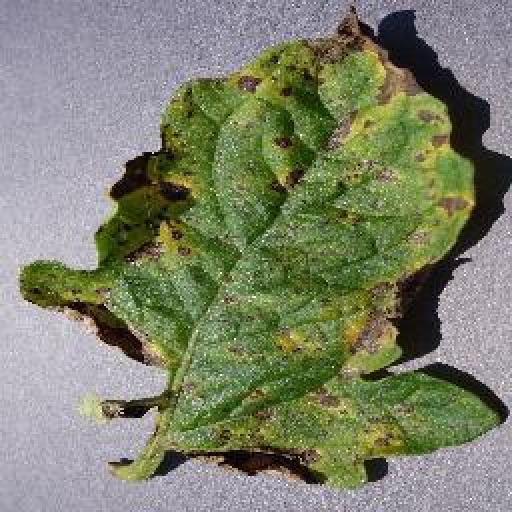Septoria: (20, 9, 506, 491)
